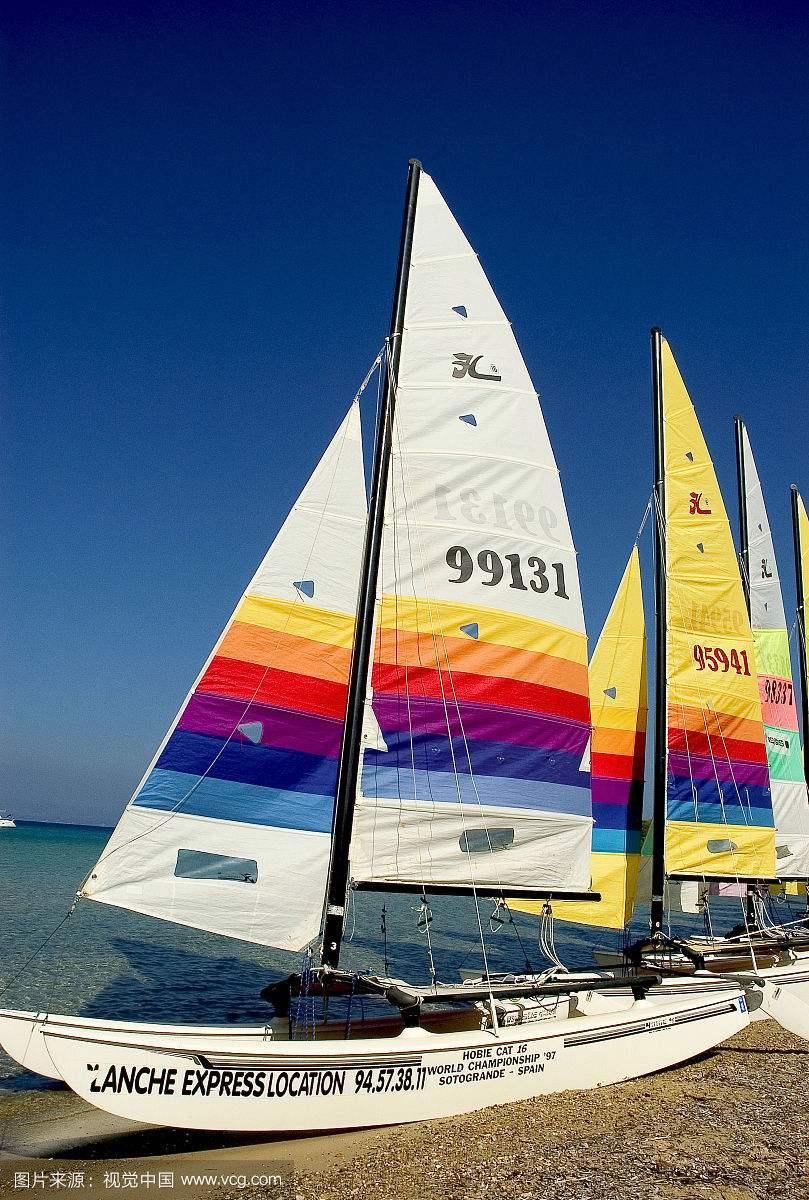fanchuan: (12, 154, 755, 1135)
